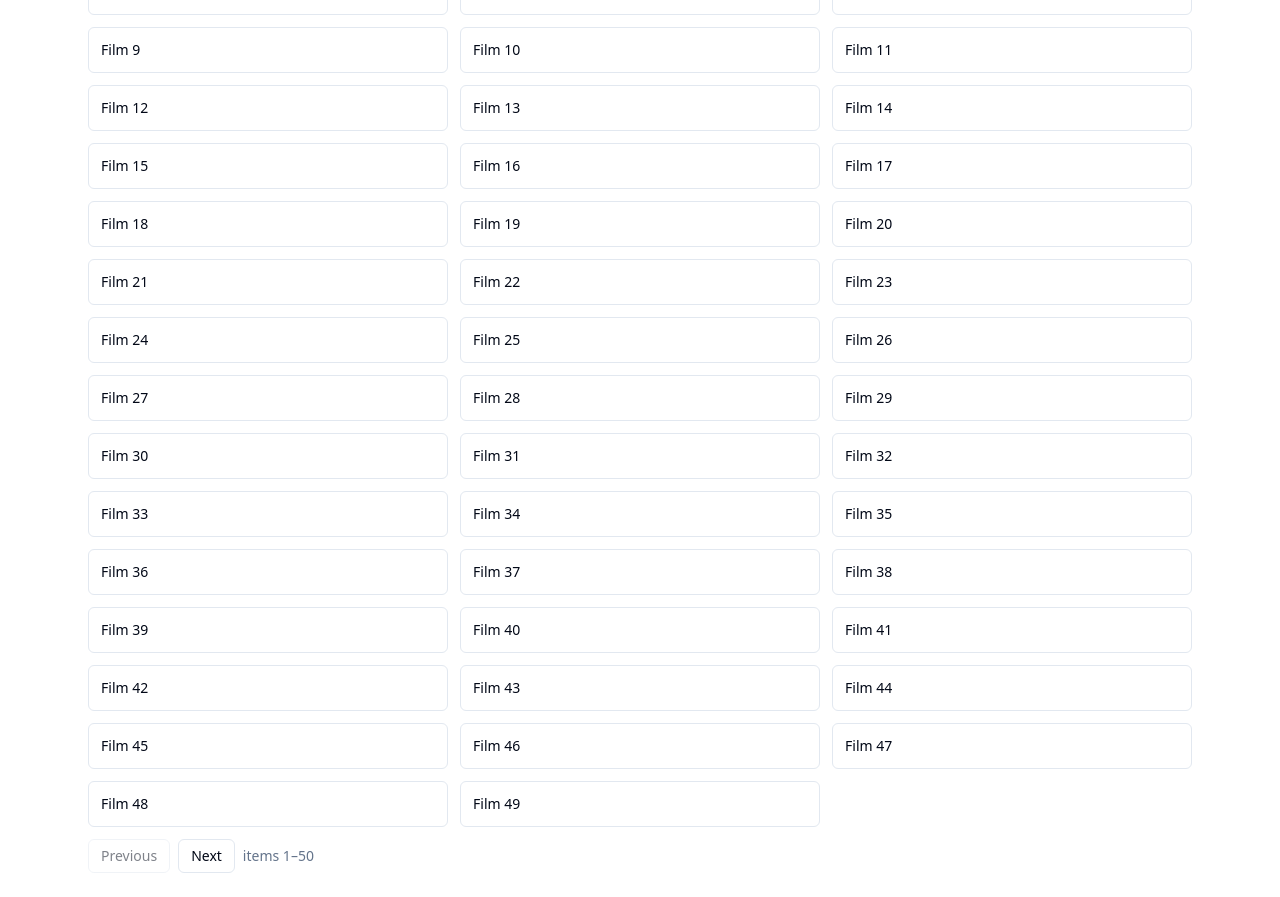
Test: Collection — tv body (box 5.2) › pages with limit/offset: Next enabled on a full page, Previous returns
(page scrolled)
Expected: the text "items 1–50" is shown, [243, 846, 314, 866]
Click the button "Next": x=206, y=856 [178, 839, 235, 873]
(page scrolled)
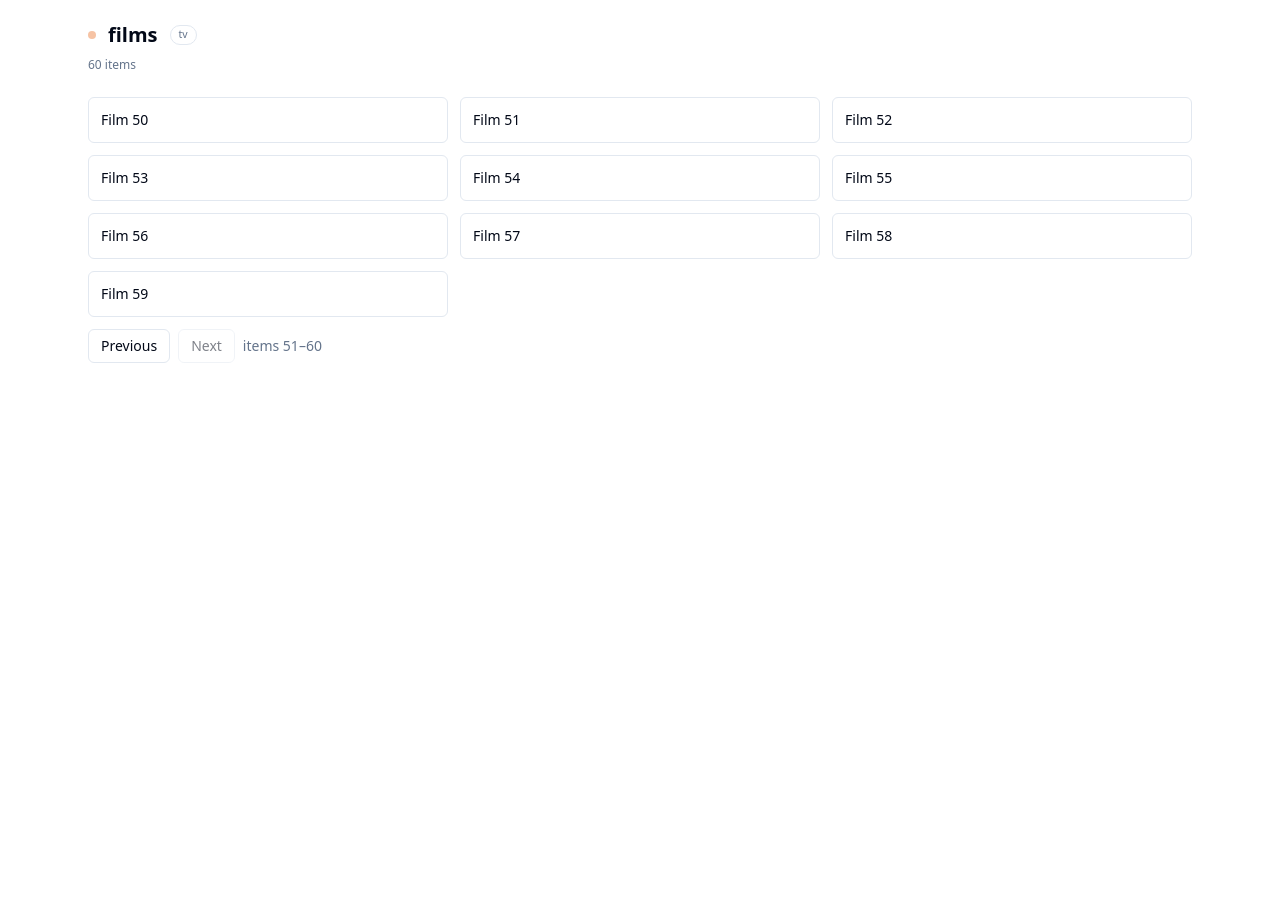
Expected: the text "Film 59" is shown, [101, 284, 148, 303]
Expected: the text "items 51–60" is shown, [243, 336, 322, 356]
Expected: the button "Next" is disabled, [178, 329, 235, 363]
Click the button "Previous": x=129, y=346 [88, 329, 170, 363]
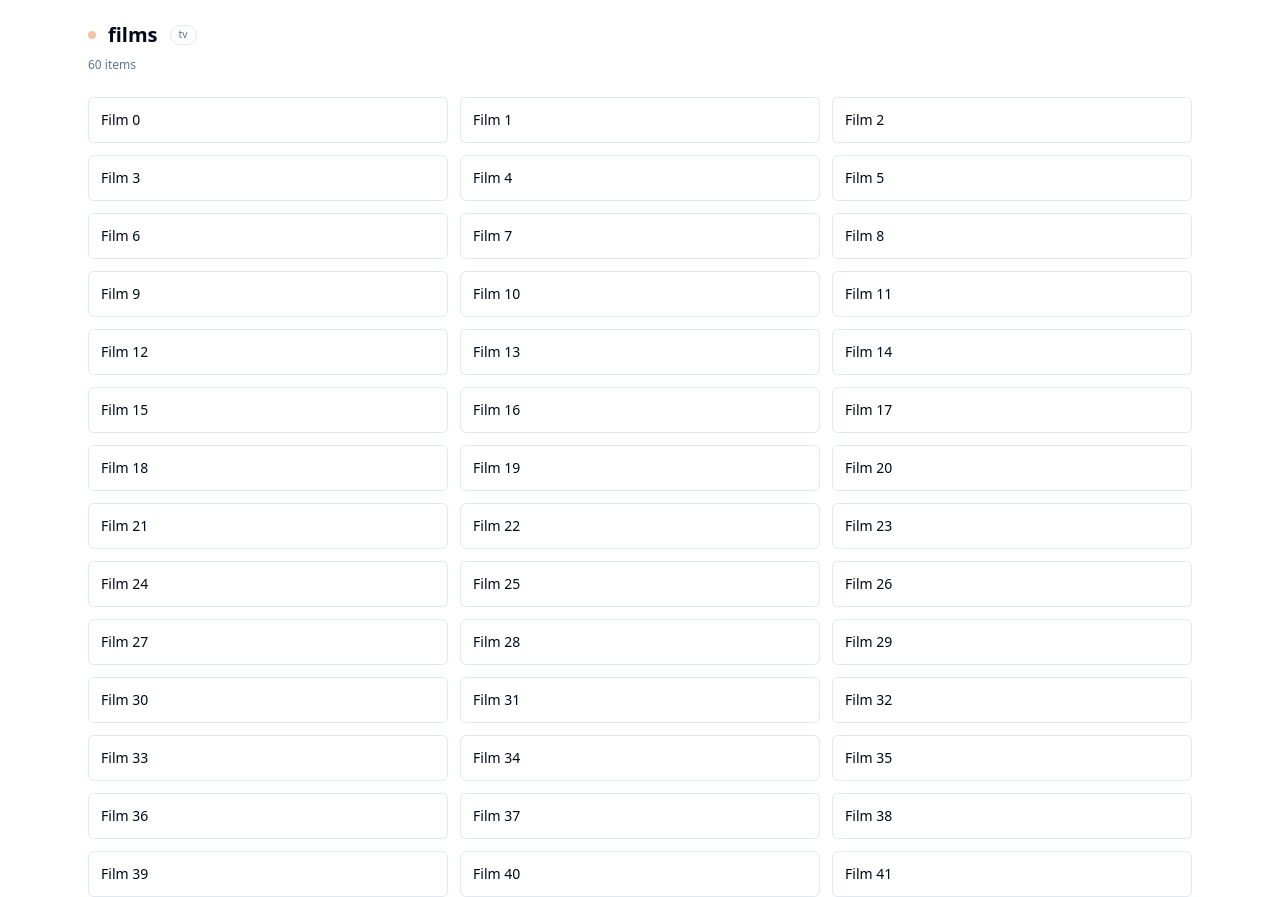
Expected: the text "Film 0" is shown, [101, 110, 140, 129]
